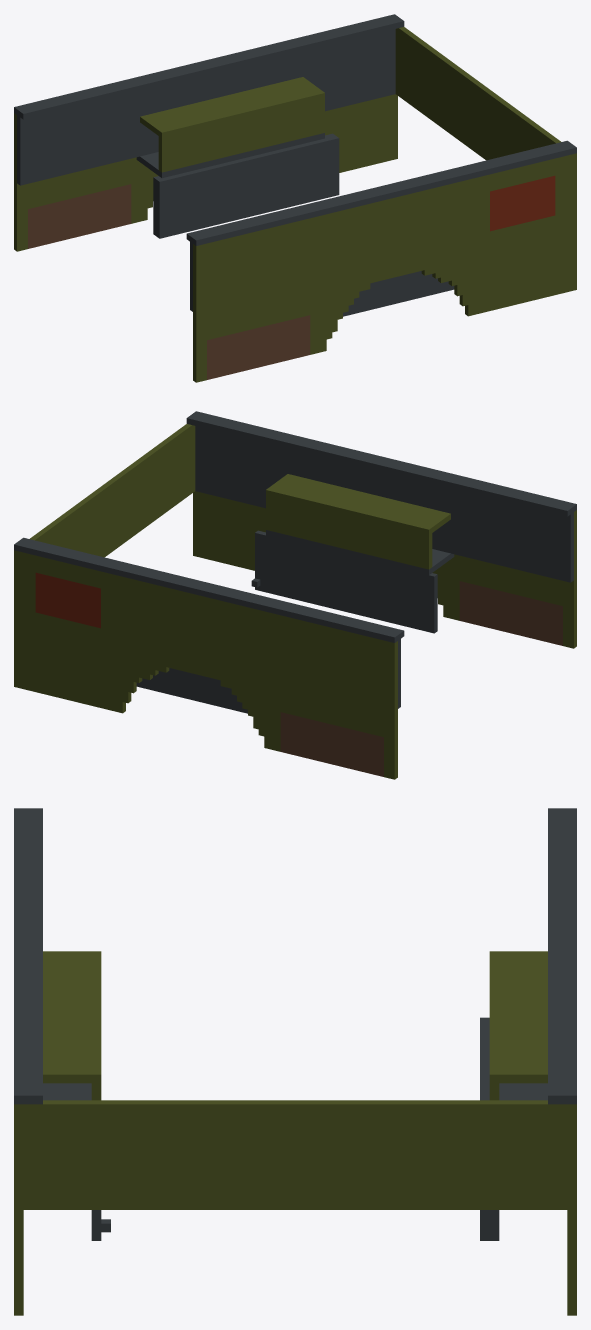
Rendered from technical_bed.glb.
3 views of the same model, one above another, from view 1: azimuth 30°, elevation 25°; view 2: azimuth 150°, elevation 25°; view 3: azimuth 270°, elevation 25° (orthographic). The views are drawn at different scales.
Visible parts, largest first — view 1: body:compound; view 2: body:compound; view 3: body:compound.
Boxes of the visible parts, x1,y1,x2,y2 form: body:compound: [14, 14, 576, 382]; body:compound: [14, 411, 576, 779]; body:compound: [14, 808, 576, 1315].
Size of the model in its own units: 2.19 by 0.7812 by 1.81.
